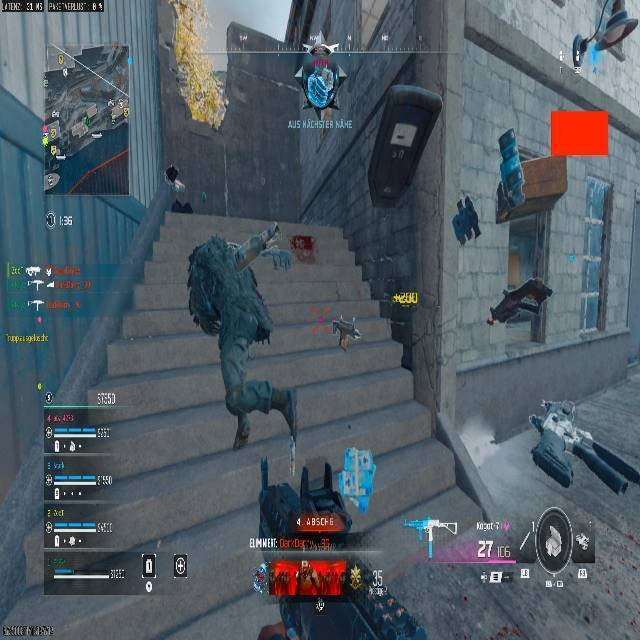head: (311, 43, 331, 56)
player: (184, 225, 284, 451), (528, 399, 638, 492), (528, 402, 577, 489), (295, 43, 346, 118), (487, 277, 554, 326), (331, 316, 359, 352)
